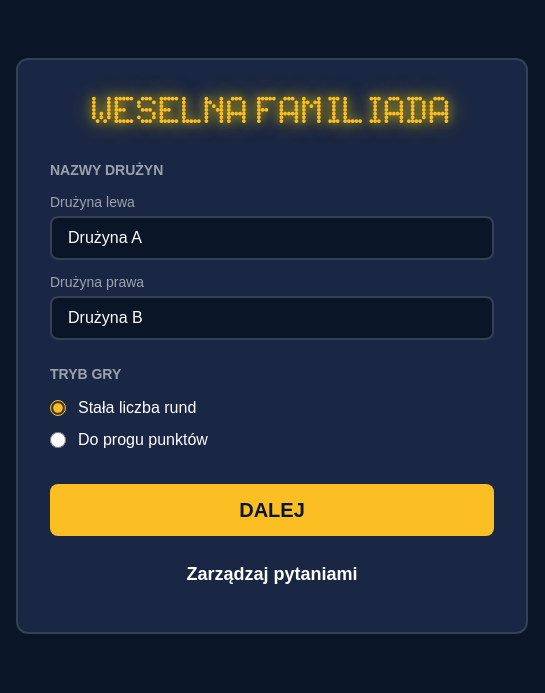
it: LobbyScreen › should show winningScore field when score mode is selected
expect the heading "WESELNA FAMILIADA" is shown: met, box [92,97,452,123]
Step 1. Click the radio button labelled "Do progu punktów" → click(58, 440), box [50,432,66,448]
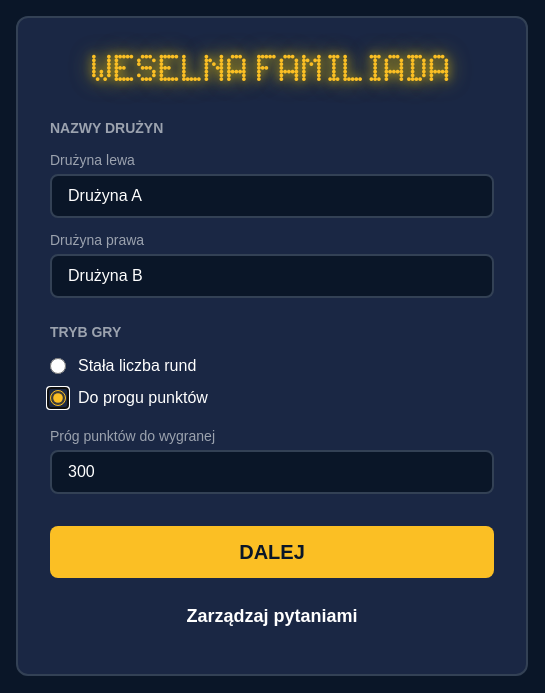
expect the text "Próg punktów do wygranej" is shown: met, box [50,428,215,444]
